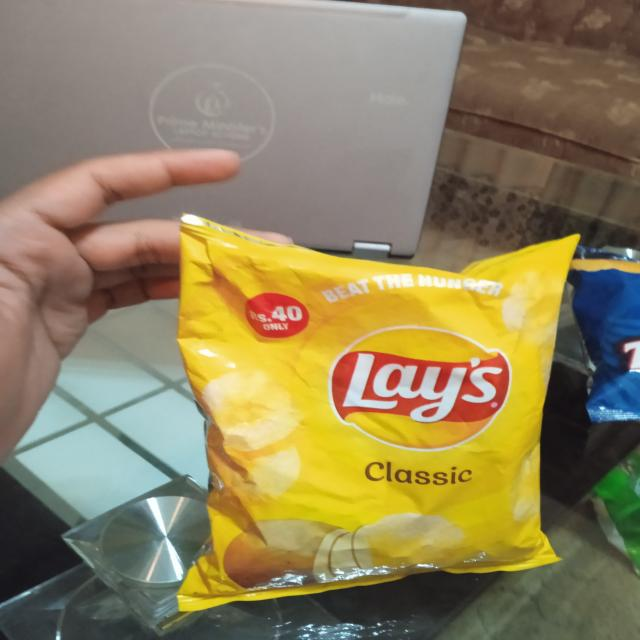Plastic: (166, 209, 587, 621)
